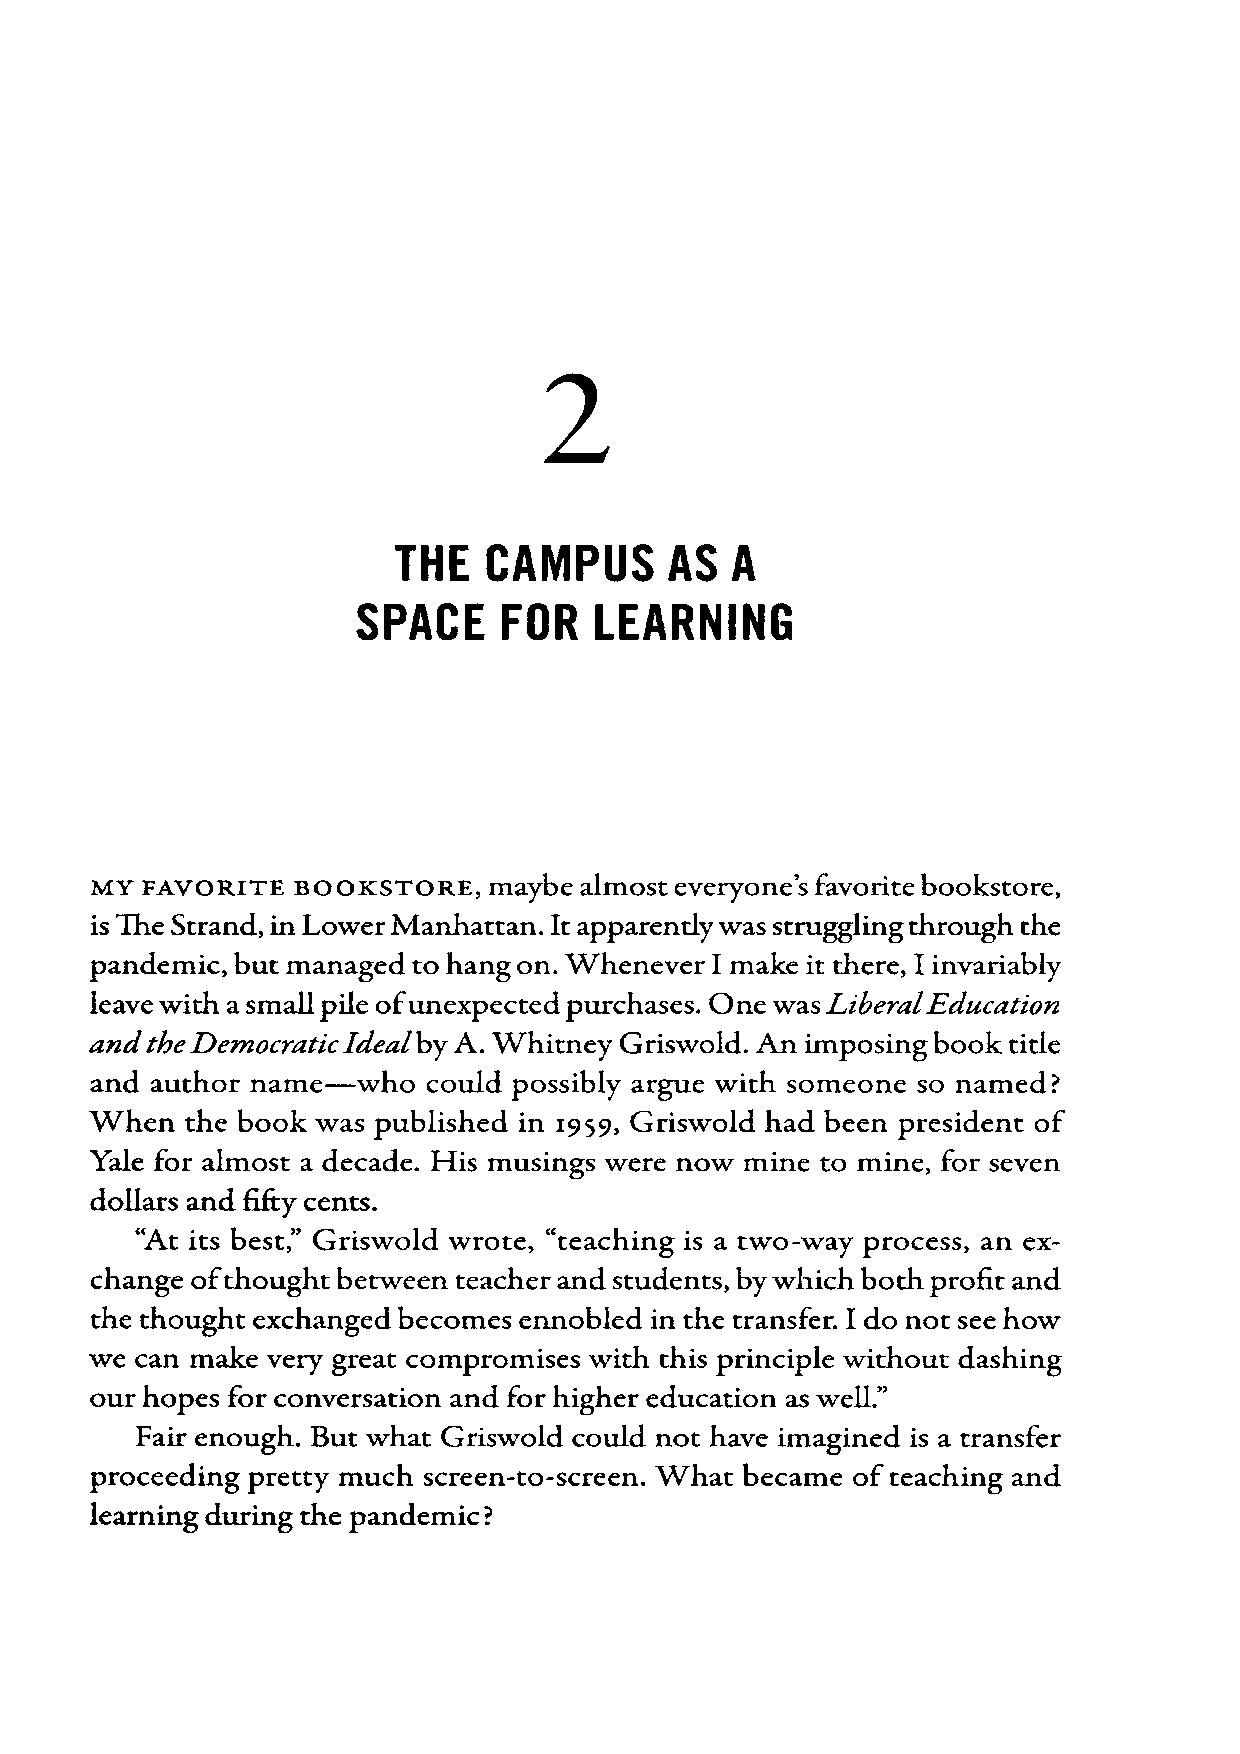chapter: (354, 369, 793, 646)
content: (85, 874, 1064, 1537)
